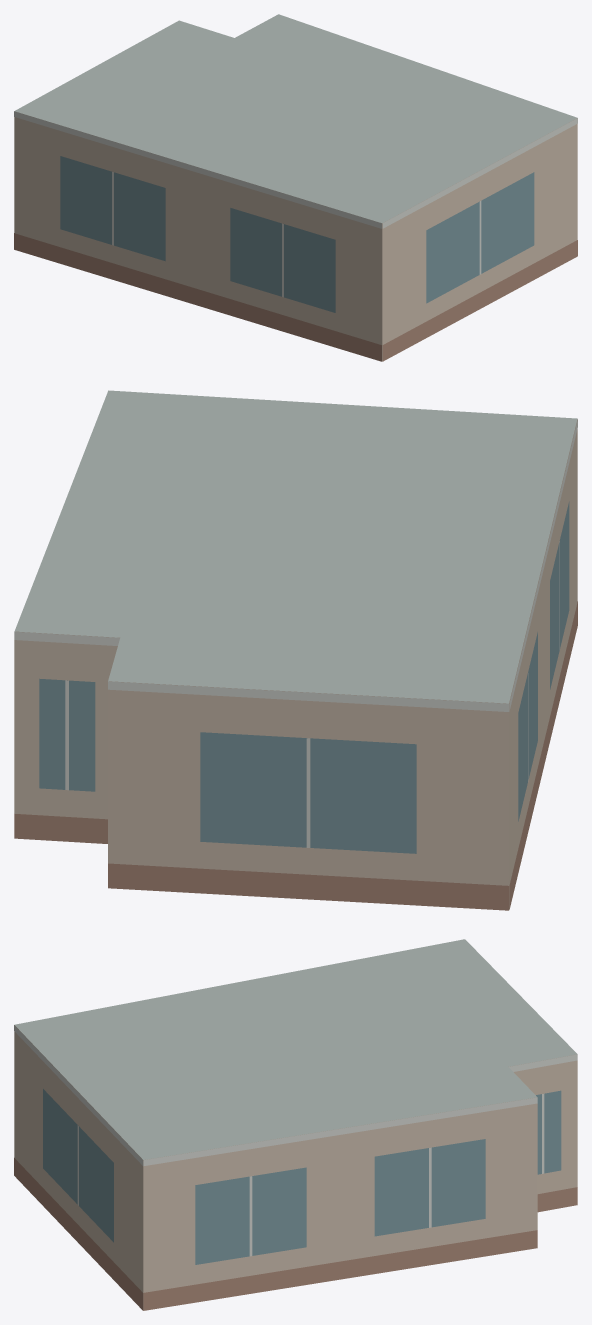
The model's file is survey-upis-32628872.glb.
The picture shows the model from 3 angles, top to bottom: view 1: azimuth 30°, elevation 25°; view 2: azimuth 150°, elevation 25°; view 3: azimuth 270°, elevation 25°; orthographic projection. The views are drawn at different scales.
Visible parts, largest first — view 1: survey-upis-32628872.tmp; view 2: survey-upis-32628872.tmp; view 3: survey-upis-32628872.tmp.
Boxes of the visible parts, x1=… form: survey-upis-32628872.tmp: x1=14, y1=14, x2=577, y2=361; survey-upis-32628872.tmp: x1=14, y1=390, x2=577, y2=910; survey-upis-32628872.tmp: x1=14, y1=939, x2=577, y2=1310.
Size of the model in its own units: 9.6 by 3.05 by 10.34.
